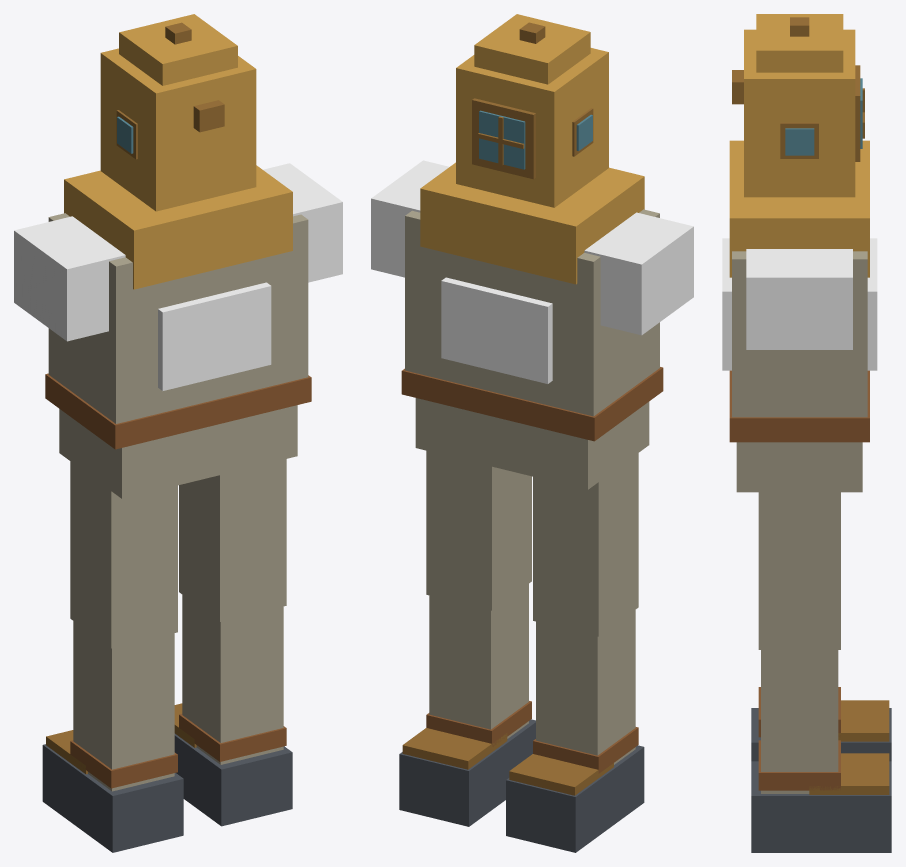
The model's file is DIVER.gltf.
The picture shows the model from 3 angles, left to right: view 1: azimuth 30°, elevation 25°; view 2: azimuth 150°, elevation 25°; view 3: azimuth 270°, elevation 25°; orthographic projection. The views are drawn at different scales.
Visible parts, largest first — view 1: DIVER; view 2: DIVER; view 3: DIVER.
Part boxes in pixels (<box>): DIVER: <box>14,14,342,852</box>; DIVER: <box>371,14,693,852</box>; DIVER: <box>722,14,891,852</box>.
Bounding box in the file's own units: 0.66 × 1.79 × 0.35.
